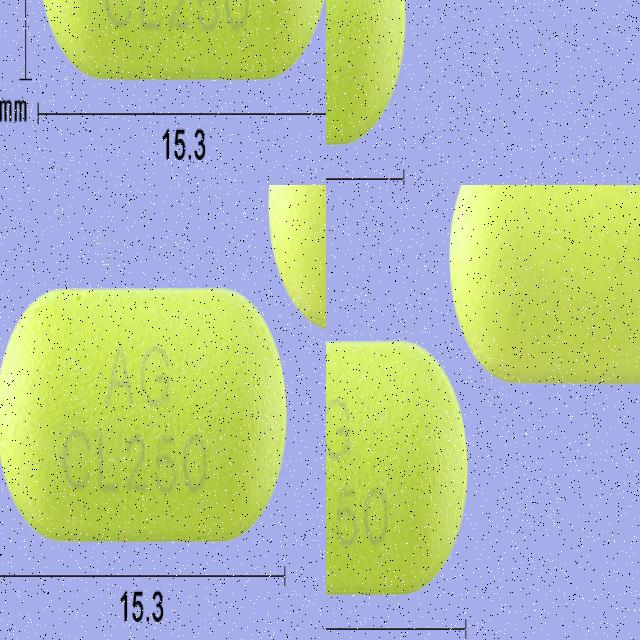Heracin: (37, 0, 324, 79)
New Clato Tab-500mg: (0, 295, 287, 543)
Shuclari Tab-500mg: (448, 185, 640, 381), (326, 342, 470, 596)
TaeJoon Levofloxacin Tab: (326, 0, 453, 143)
